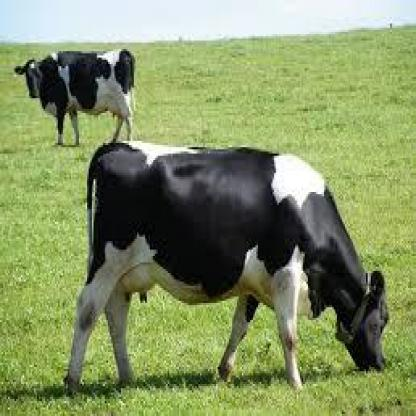cow: (65, 140, 390, 396), (14, 47, 136, 149)
